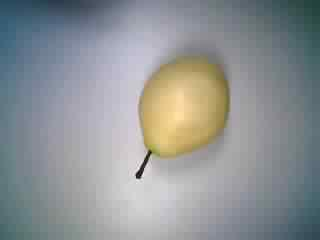pear: (120, 47, 235, 193)
